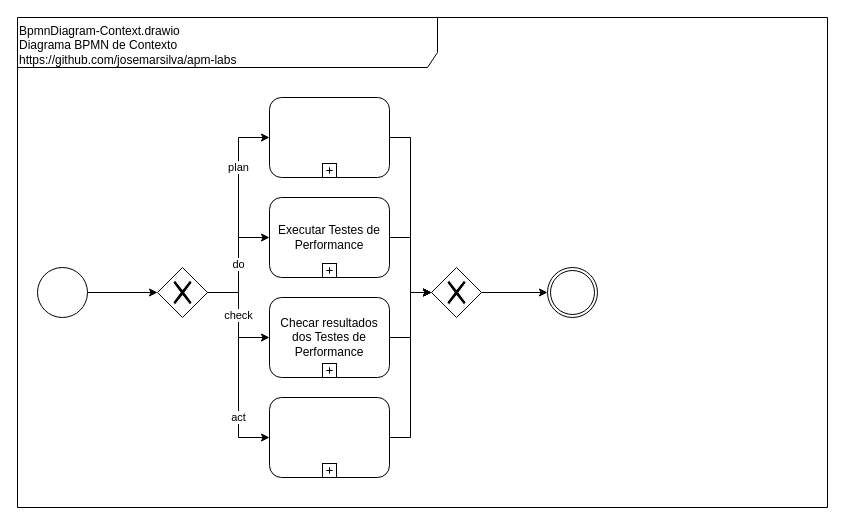
This 845x525 diagram has some shape labels left out. Each missing label, with the box of its shape:
Agir com Ações Corretivas: (268, 396, 390, 478)
Planejar Testes de Performance: (268, 96, 390, 178)
